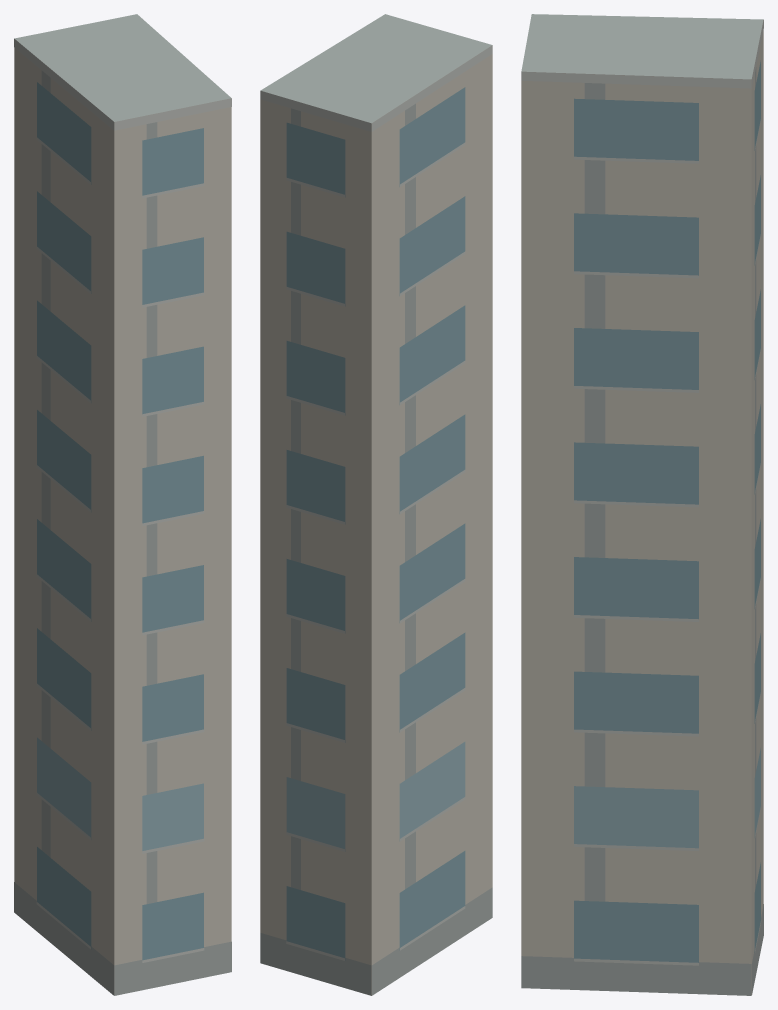
Rendered from survey-upis-33034679.glb.
3 renders of one model, left to right at view 1: azimuth 30°, elevation 25°; view 2: azimuth 150°, elevation 25°; view 3: azimuth 270°, elevation 25°, orthographic. The views are drawn at different scales.
Parts seen in each view (by area): view 1: survey-upis-33034679.tmp; view 2: survey-upis-33034679.tmp; view 3: survey-upis-33034679.tmp.
Part boxes in pixels (bbox=[...]): survey-upis-33034679.tmp: bbox=[14, 14, 231, 995]; survey-upis-33034679.tmp: bbox=[260, 14, 492, 995]; survey-upis-33034679.tmp: bbox=[521, 14, 763, 995].
Bounding box in the file's own units: 3.74 × 24.4 × 5.86.
